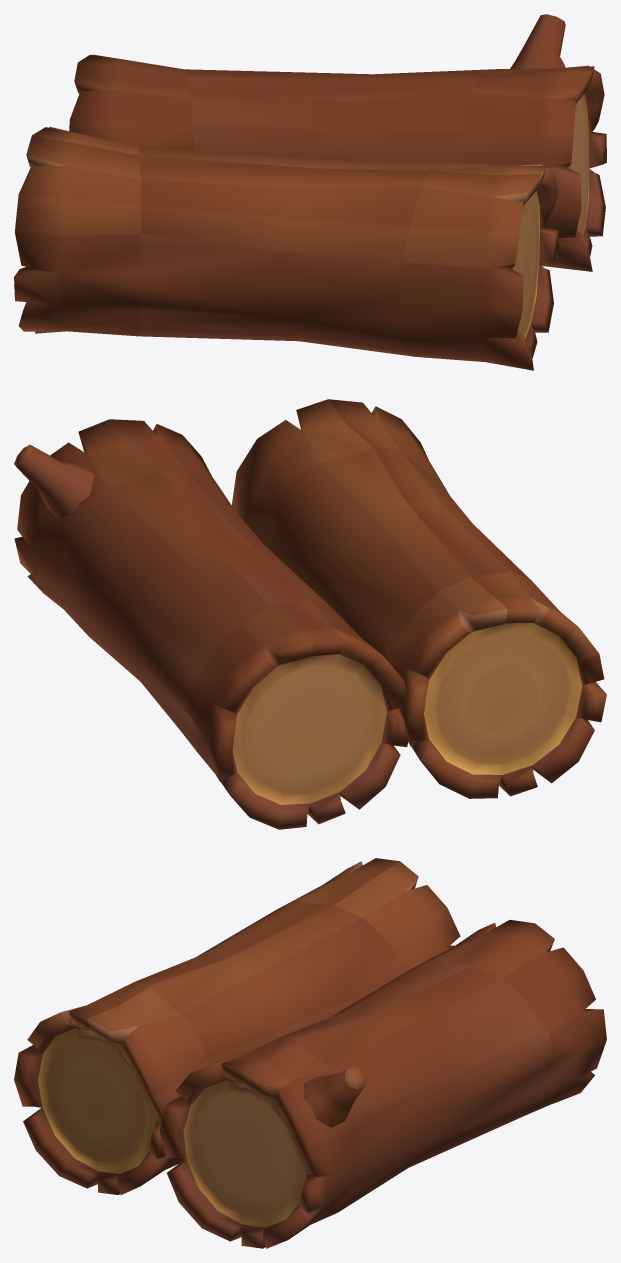
Rendered from block_wood_1_2.fbx.
The picture shows the model from 3 angles, top to bottom: view 1: azimuth 30°, elevation 25°; view 2: azimuth 150°, elevation 25°; view 3: azimuth 270°, elevation 25°; orthographic projection. The views are drawn at different scales.
Visible parts, largest first — view 1: block_wood_1_2; view 2: block_wood_1_2; view 3: block_wood_1_2.
Part boxes in pixels (x1,y1,x2,y2): block_wood_1_2: [14, 14, 606, 370]; block_wood_1_2: [14, 399, 606, 829]; block_wood_1_2: [14, 858, 606, 1248].
Bounding box in the file's own units: 154 × 54.04 × 144.
